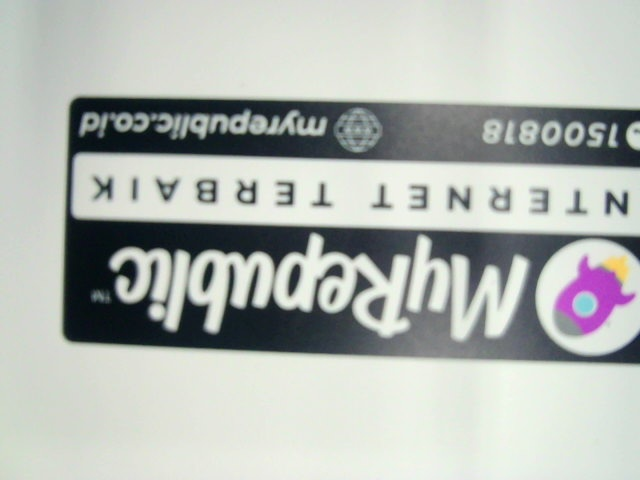BD_MyRepublic: (51, 87, 639, 373)
